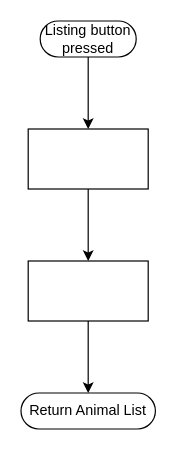
The diagram is 176 pixels wide and 450 high, and some of its shapes have lost their labels. Each missing label, with the centre of its shape:
"Get Animal List inside the Paddock" belongs at pixel 87 290.
"Get Paddock ID" belongs at pixel 87 158.
